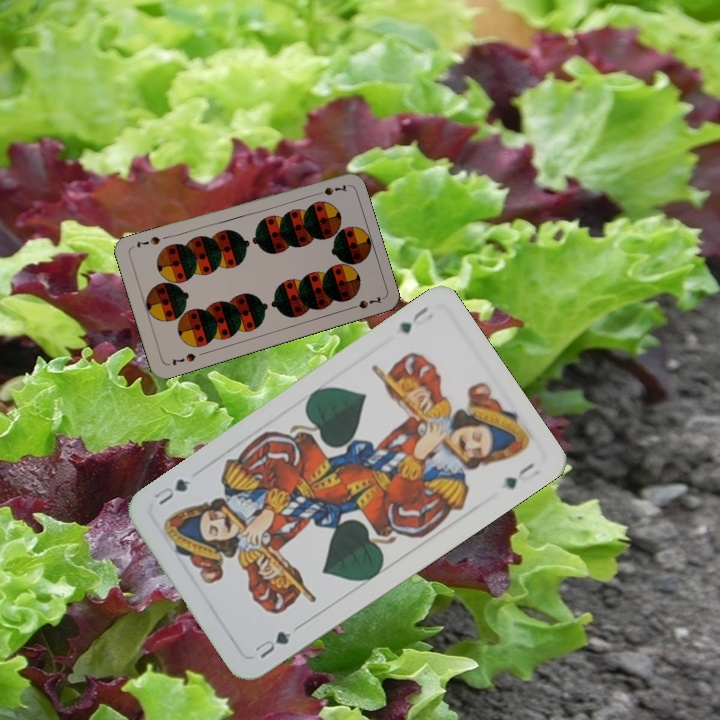GU: (250, 627, 294, 661), (394, 302, 431, 337)
S7: (168, 349, 198, 368), (309, 183, 336, 199)
